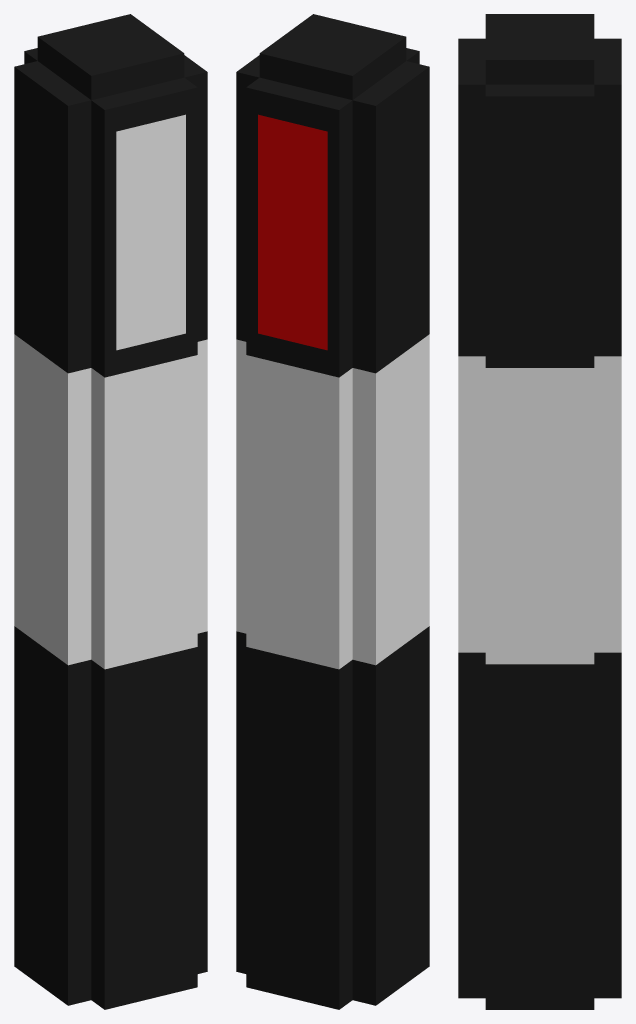
File: british_road_neopolitan_bollard.obj
The picture shows the model from 3 angles, left to right: view 1: azimuth 30°, elevation 25°; view 2: azimuth 150°, elevation 25°; view 3: azimuth 270°, elevation 25°; orthographic projection.
Visible parts, largest first — view 1: cube; view 2: cube; view 3: cube.
Part boxes in pixels (x1=…): cube: x1=14, y1=14, x2=207, y2=1009; cube: x1=236, y1=14, x2=429, y2=1009; cube: x1=458, y1=14, x2=621, y2=1009.
Bounding box in the file's own units: 0.1875 × 1.19 × 0.1875.
